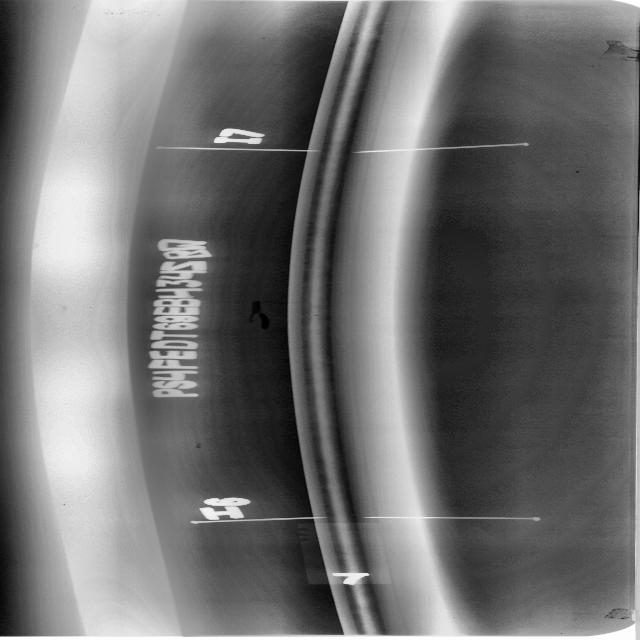porosity: (311, 312, 324, 317)
